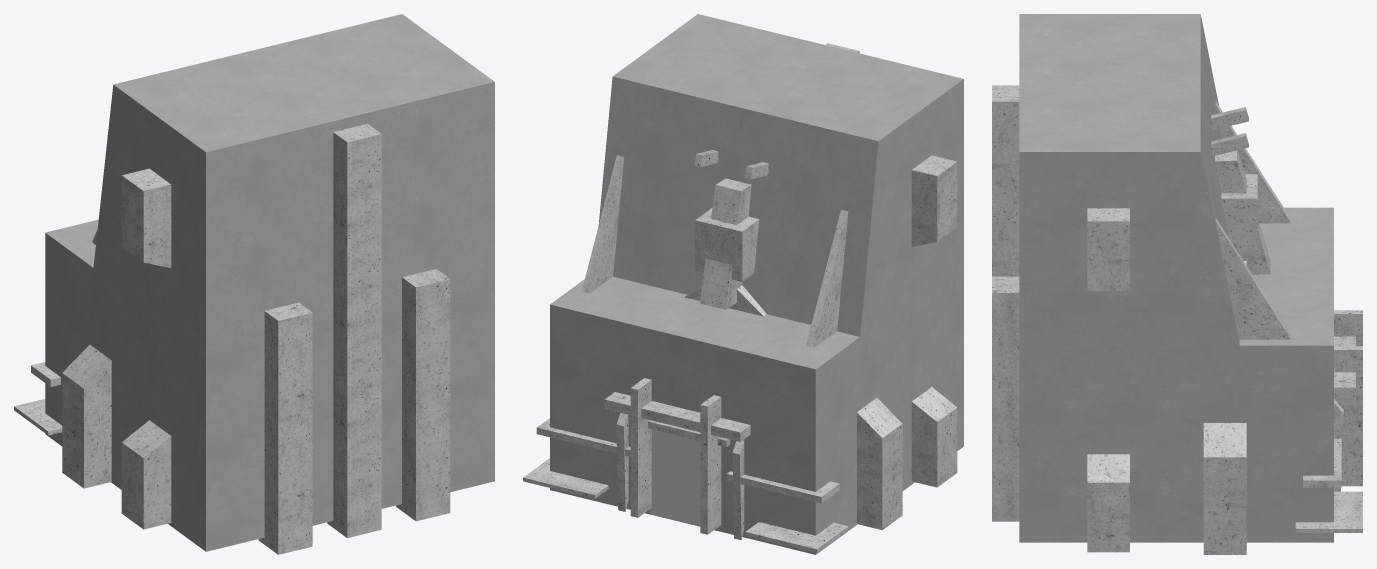
File: BuildingLow5.fbx
The picture shows the model from 3 angles, left to right: view 1: azimuth 30°, elevation 25°; view 2: azimuth 150°, elevation 25°; view 3: azimuth 270°, elevation 25°; orthographic projection. The views are drawn at different scales.
Visible parts, largest first — view 1: Cube, Plane.001; view 2: Cube, Plane.001; view 3: Cube, Plane.001.
Boxes of the visible parts, x1,y1,x2,y2 form: Cube: (45, 14, 494, 551); Plane.001: (14, 123, 450, 554); Cube: (550, 14, 963, 554); Plane.001: (523, 43, 957, 552); Cube: (1019, 14, 1333, 542); Plane.001: (992, 85, 1362, 554).
Size of the model in its own units: 2002 by 2260 by 1909.
